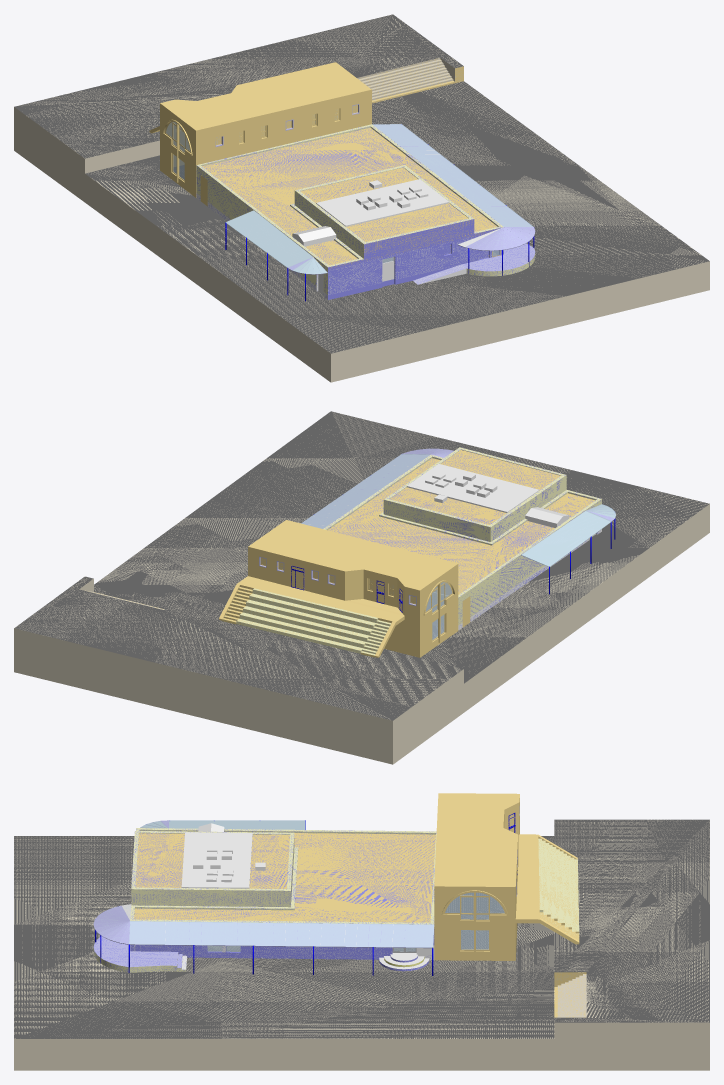
The model's file is 03cantine_escalier_sol2.0.dae.
3 renders of one model, top to bottom at view 1: azimuth 30°, elevation 25°; view 2: azimuth 150°, elevation 25°; view 3: azimuth 270°, elevation 25°, orthographic. The views are drawn at different scales.
Visible parts, largest first — view 1: SketchUp (×4), Composant_15 (×12), group_1, group_13 (×2); view 2: SketchUp (×3), Composant_15 (×9), group_1 (×3), group_13 (×2); view 3: SketchUp (×4), Composant_15 (×13), group_1 (×5), group_13 (×2).
Boxes of the visible parts, x1=… form: SketchUp (×4): x1=14, y1=14, x2=709, y2=382; Composant_15 (×12): x1=196, y1=124, x2=535, y2=299; group_1: x1=160, y1=62, x2=371, y2=197; group_13 (×2): x1=225, y1=210, x2=312, y2=267; SketchUp (×3): x1=14, y1=411, x2=709, y2=764; Composant_15 (×9): x1=302, y1=447, x2=601, y2=630; group_1 (×3): x1=219, y1=520, x2=458, y2=657; group_13 (×2): x1=521, y1=510, x2=611, y2=566; SketchUp (×4): x1=14, y1=819, x2=709, y2=1070; Composant_15 (×13): x1=93, y1=828, x2=436, y2=972; group_1 (×5): x1=434, y1=793, x2=579, y2=960; group_13 (×2): x1=169, y1=820, x2=305, y2=829.
Size of the model in its own units: 1580 by 2289 by 384.
